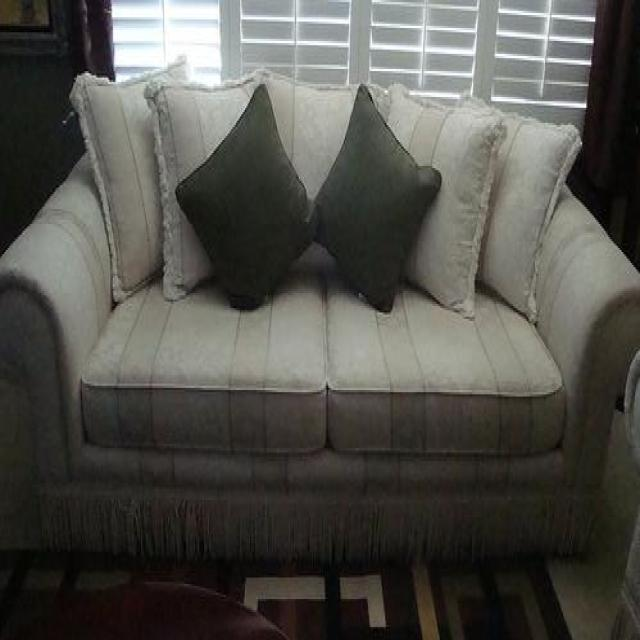sofa: (0, 65, 639, 580)
